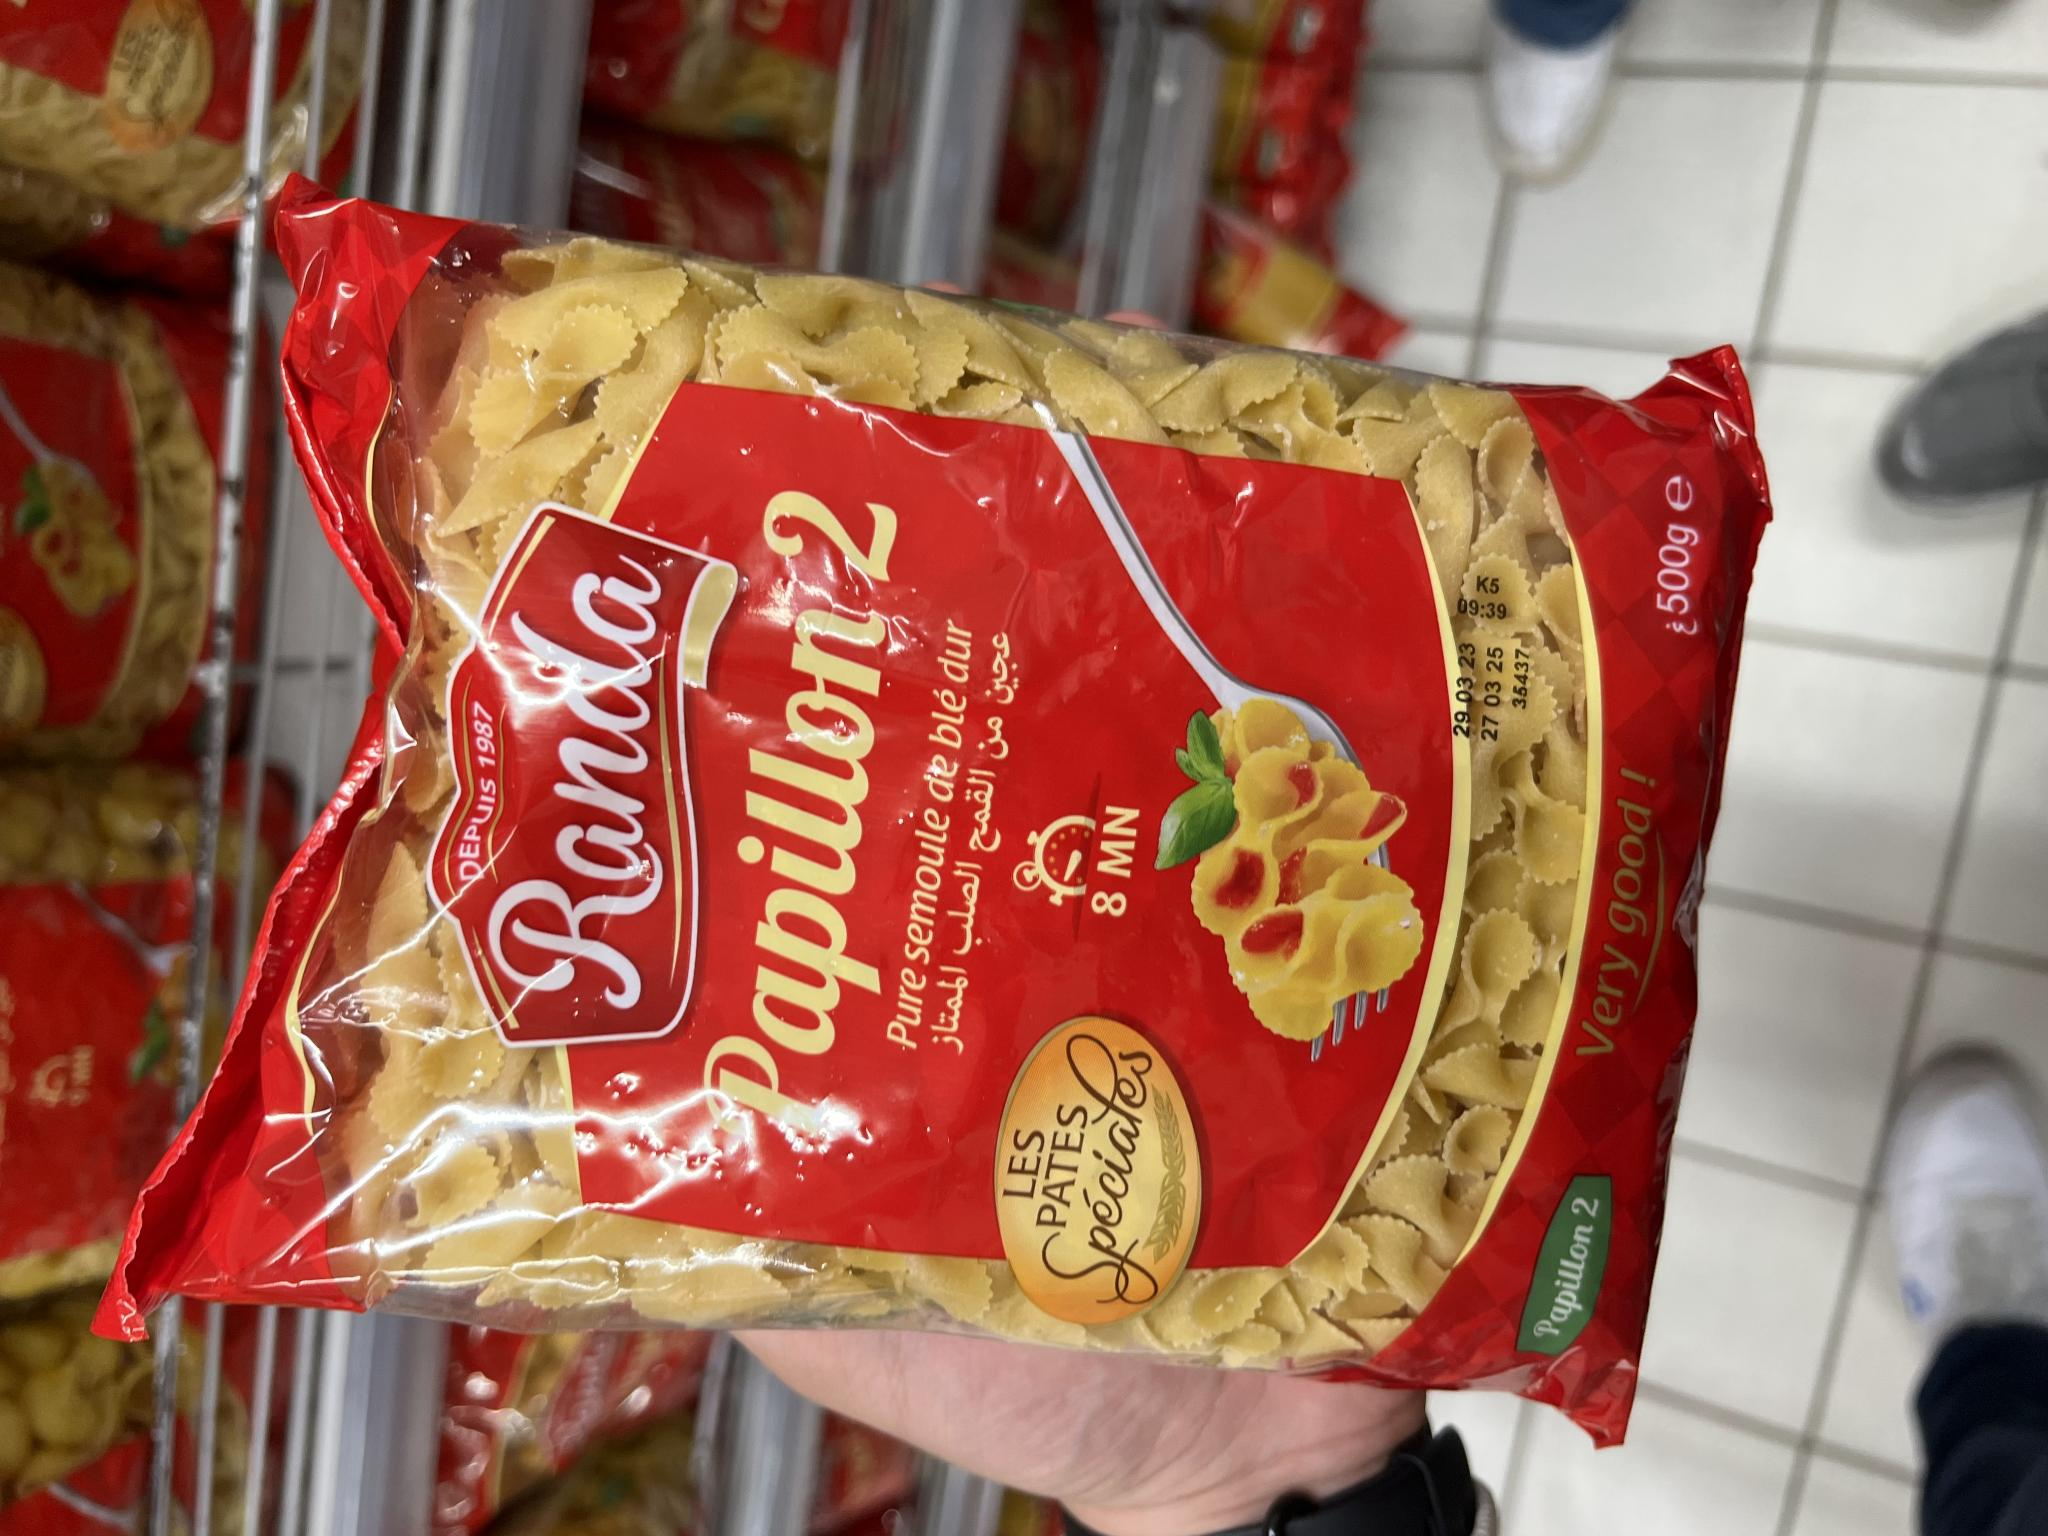Papillon: (111, 208, 1721, 1389)
